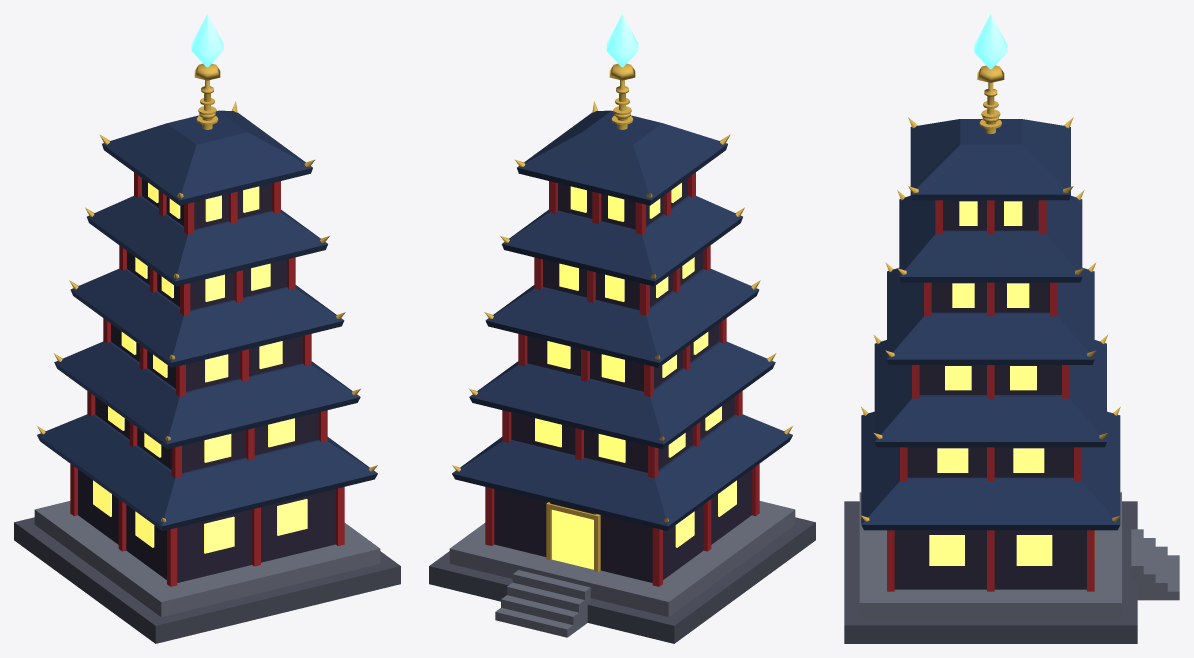
File: tower_v4.glb
3 views of the same model, side by side, from view 1: azimuth 30°, elevation 25°; view 2: azimuth 150°, elevation 25°; view 3: azimuth 270°, elevation 25° (orthographic). The views are drawn at different scales.
Visible parts, largest first — view 1: Roof_24365A, Wall_2E2840, Stone_6B6F7E, StoneDark_4A4D5C, Window_FFC86B, Pillar_B3262E, Gold_E6B84A, Crystal_8FF3FF; view 2: Roof_24365A, Wall_2E2840, Stone_6B6F7E, Window_FFC86B, StoneDark_4A4D5C, Pillar_B3262E, Gold_E6B84A, Crystal_8FF3FF; view 3: Roof_24365A, Wall_2E2840, Stone_6B6F7E, StoneDark_4A4D5C, Window_FFC86B, Pillar_B3262E, Gold_E6B84A, Crystal_8FF3FF.
Boxes of the visible parts, box(x1,y1,x2,y2) form: Roof_24365A: box(37, 110, 377, 530); Wall_2E2840: box(78, 178, 335, 582); Stone_6B6F7E: box(34, 501, 380, 616); StoneDark_4A4D5C: box(14, 517, 400, 643); Window_FFC86B: box(93, 183, 307, 553); Pillar_B3262E: box(70, 172, 344, 586); Gold_E6B84A: box(37, 63, 377, 522); Crystal_8FF3FF: box(191, 14, 223, 67); Roof_24365A: box(452, 110, 792, 530); Wall_2E2840: box(494, 178, 751, 582); Stone_6B6F7E: box(449, 501, 795, 637); Window_FFC86B: box(535, 183, 736, 569); StoneDark_4A4D5C: box(429, 517, 815, 643); Pillar_B3262E: box(485, 172, 759, 586); Gold_E6B84A: box(452, 63, 792, 571); Crystal_8FF3FF: box(606, 14, 638, 67); Roof_24365A: box(861, 119, 1120, 530); Wall_2E2840: box(894, 200, 1086, 589); Stone_6B6F7E: box(859, 492, 1179, 618); StoneDark_4A4D5C: box(844, 501, 1137, 643); Window_FFC86B: box(929, 201, 1052, 565); Pillar_B3262E: box(887, 200, 1094, 591); Gold_E6B84A: box(861, 65, 1120, 560); Crystal_8FF3FF: box(974, 14, 1007, 69).
Size of the model in its own units: 60.71 by 130 by 69.46.
